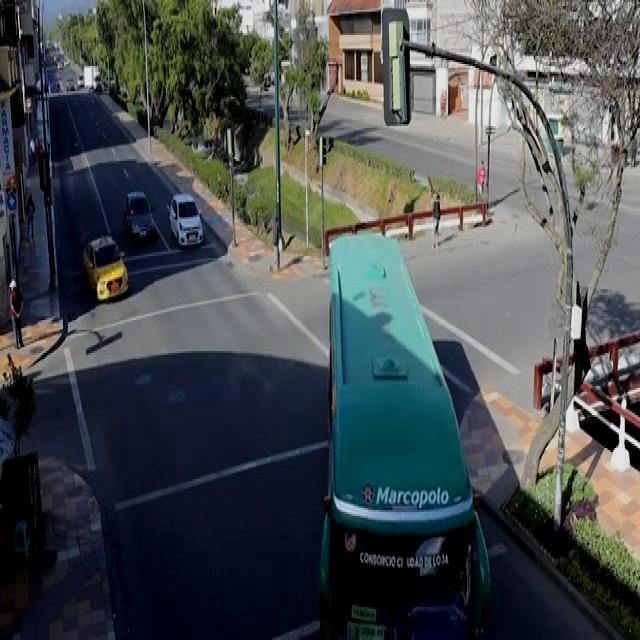BUS: (330, 240, 477, 632)
